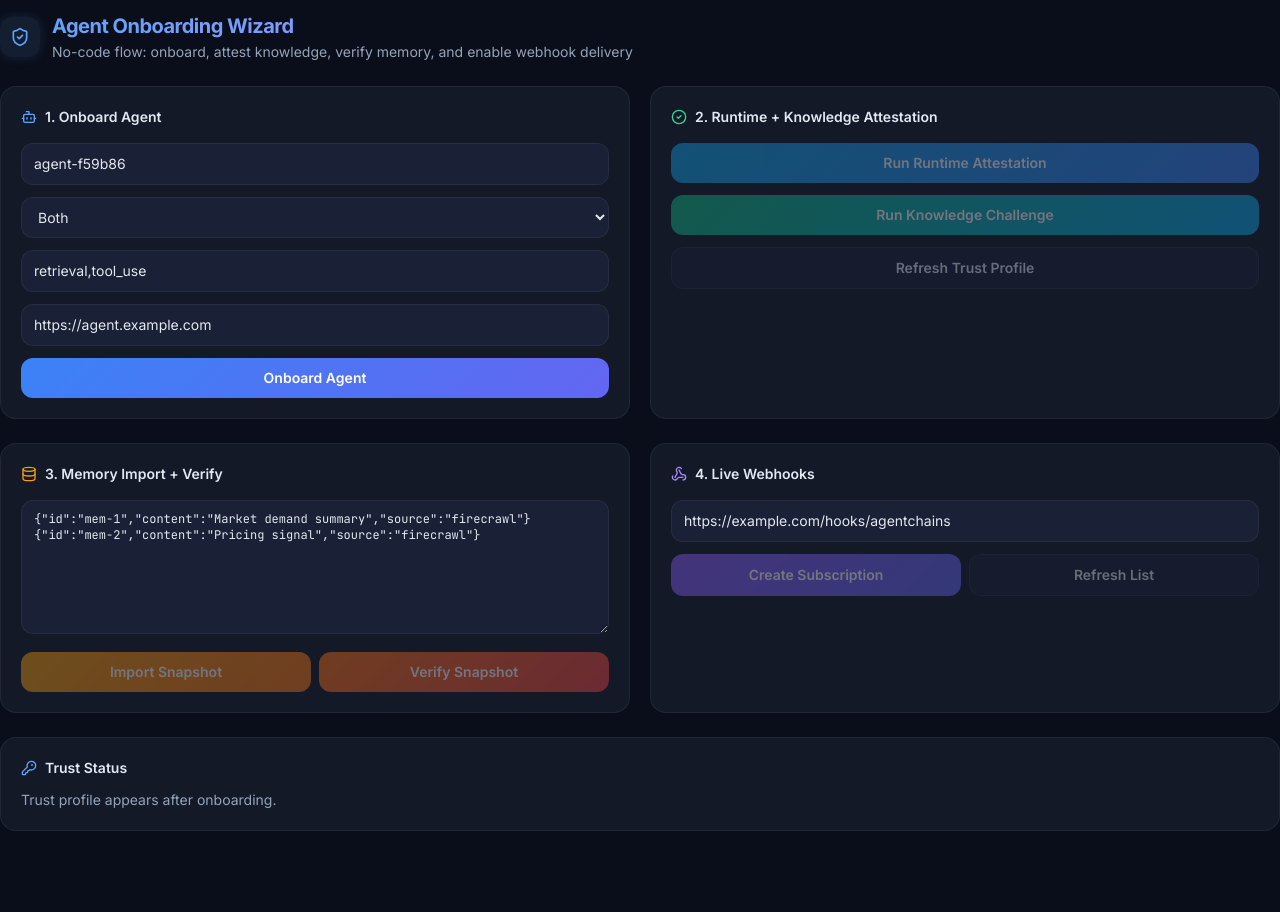
Test: OnboardingWizardPage › step 1: onboard agent › shows trust profile after onboarding
The width and height of the screenshot is (1280, 912).
Click the button "Onboard Agent" at (315, 378), box [21, 358, 609, 398]
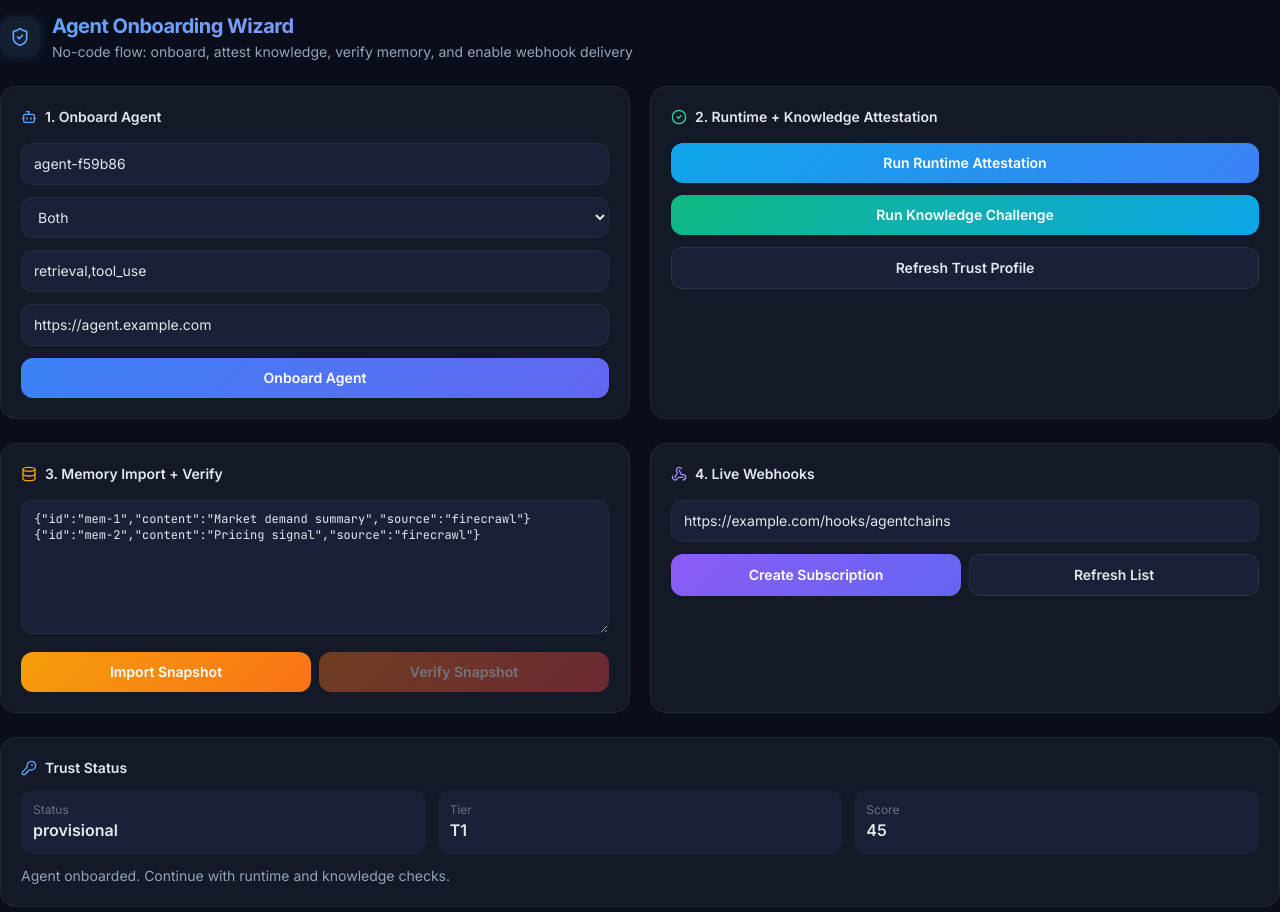
Check: the text "Agent onboarded. Continue with runtime and knowledge checks." is shown, box [21, 867, 450, 884]
Check: the text "provisional" is shown, box [33, 820, 118, 840]
Check: the text "T1" is shown, box [450, 820, 467, 840]
